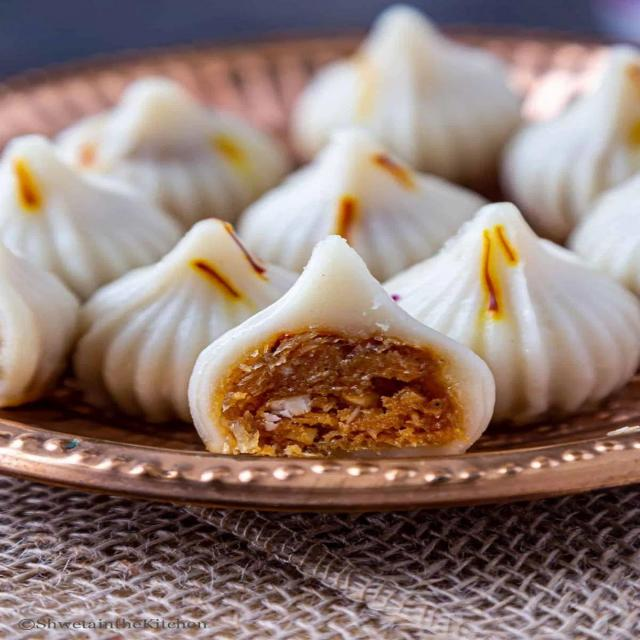modak: (62, 109, 594, 451)
